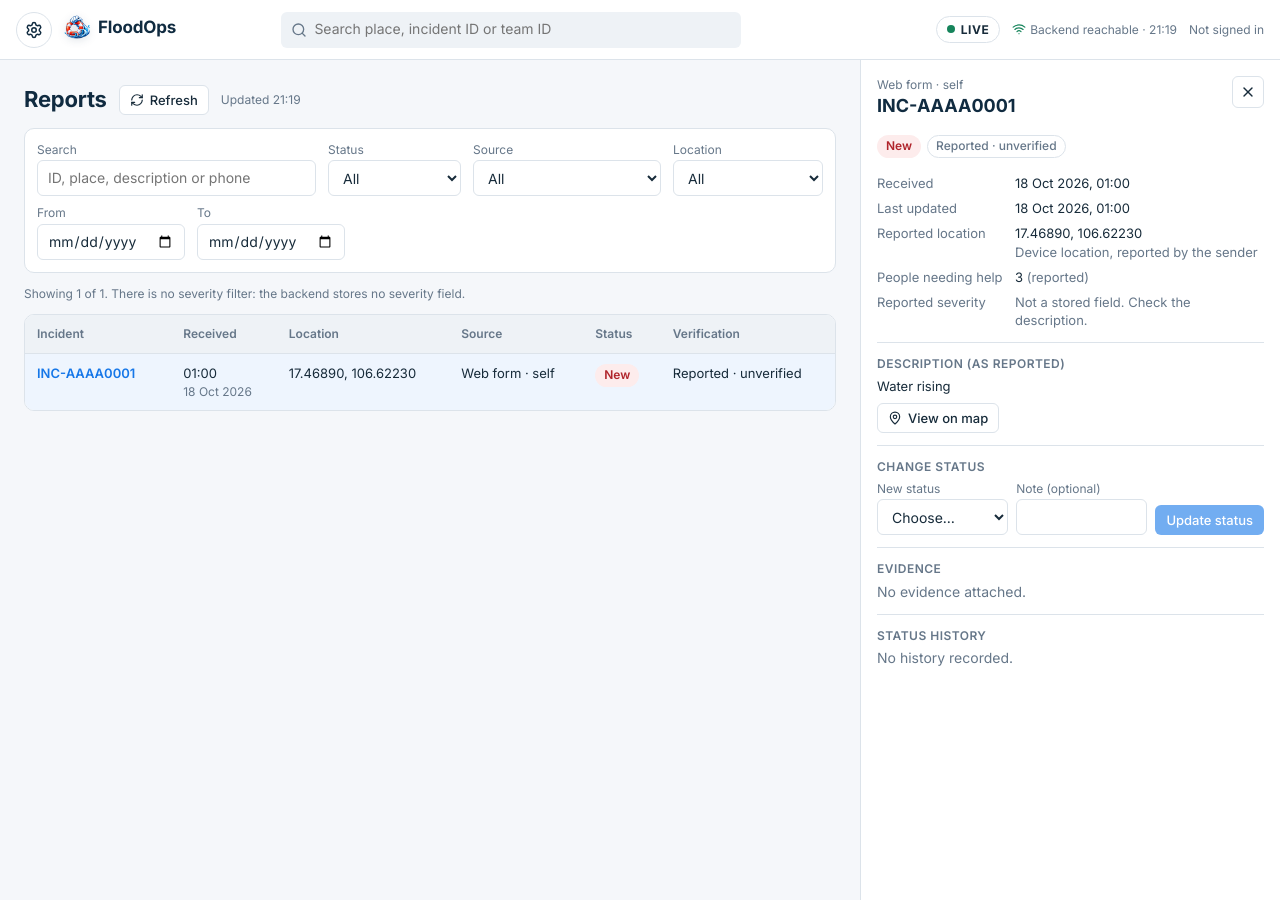
status update › confirms, sends PATCH, and reconciles with the server list
Check: the element named "Incident INC-AAAA0001" is shown, box top-left (877, 76), bottom-right (1264, 669)
Select "Verified" in the dropdown labelled "New status" at (943, 517), box top-left (877, 499), bottom-right (1008, 535)
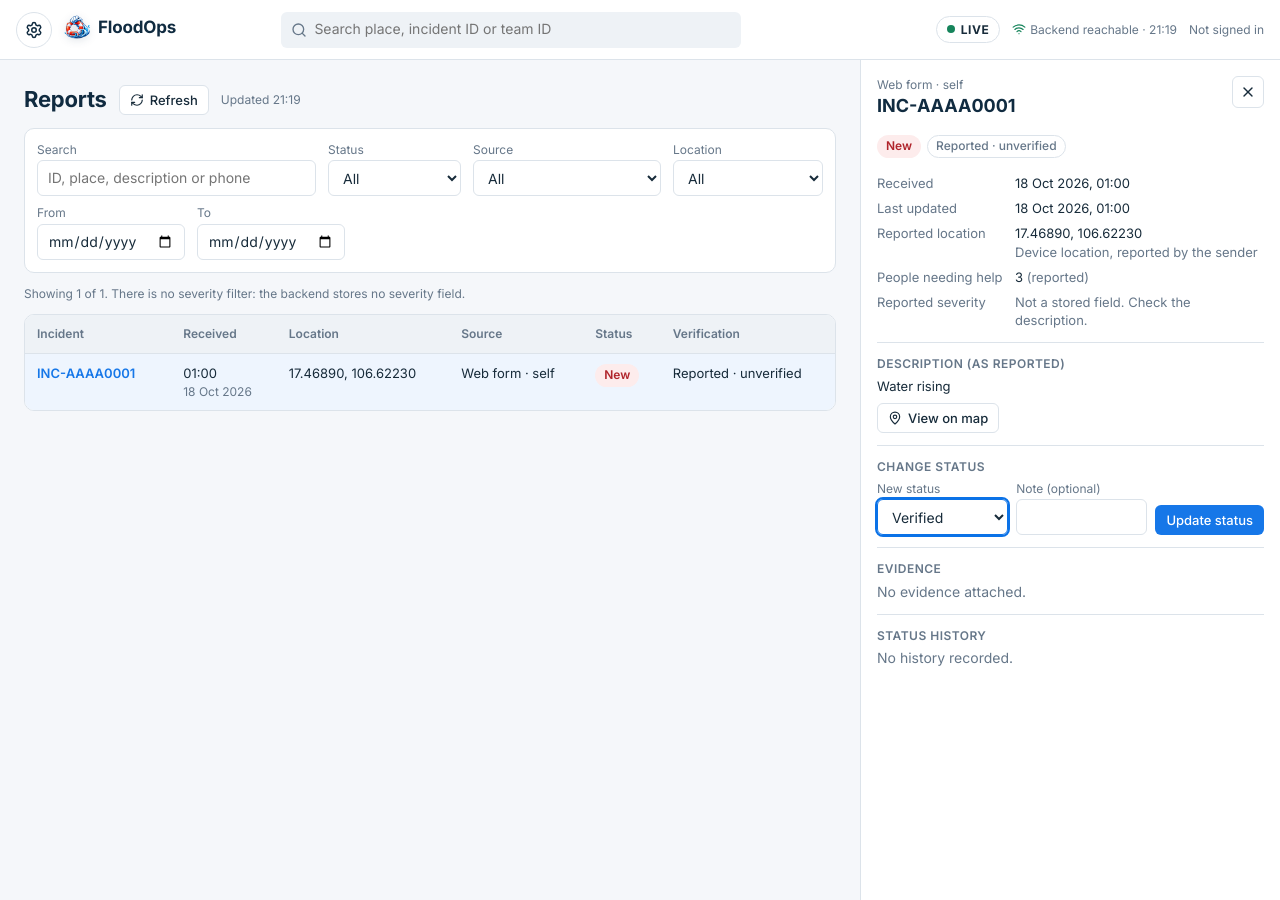
Click the button "Update status" at (1210, 520), box top-left (1155, 505), bottom-right (1264, 535)
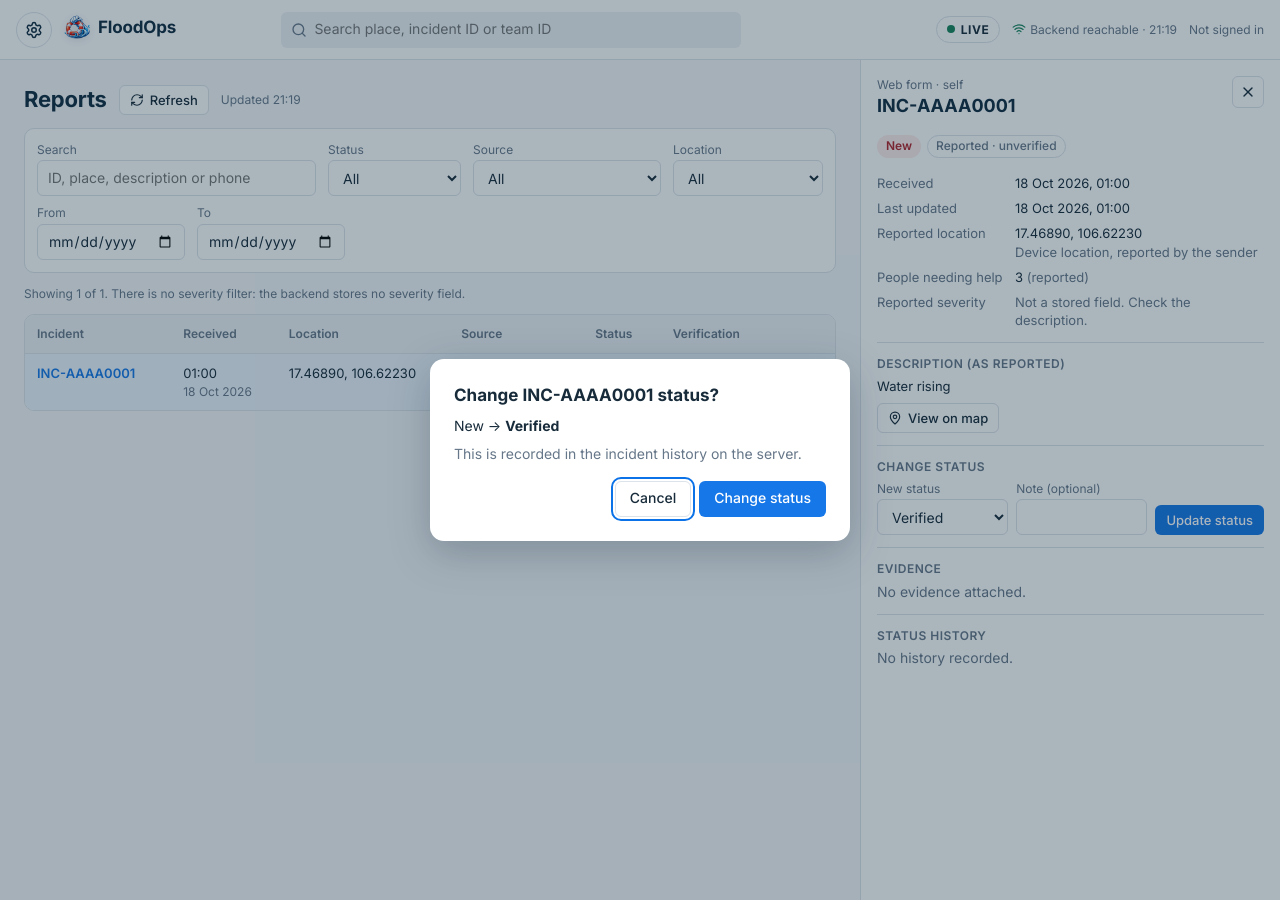
Check: the dialog shows "New → Verified", box top-left (430, 359), bottom-right (850, 541)
Click the button "Change status" at (763, 499), box top-left (699, 481), bottom-right (826, 517)
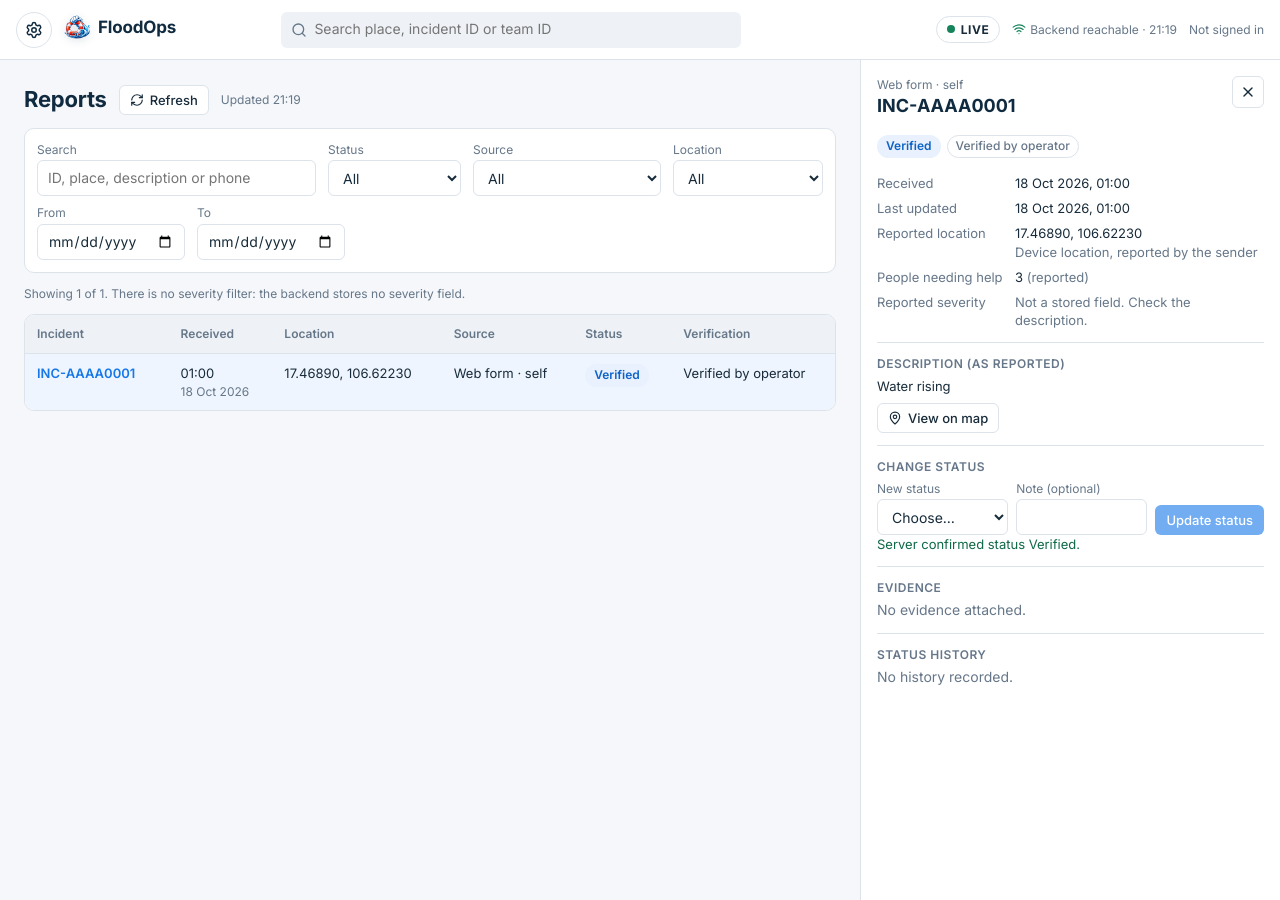
Check: the text "Server confirmed status Verified." is shown, box top-left (877, 536), bottom-right (1080, 552)
